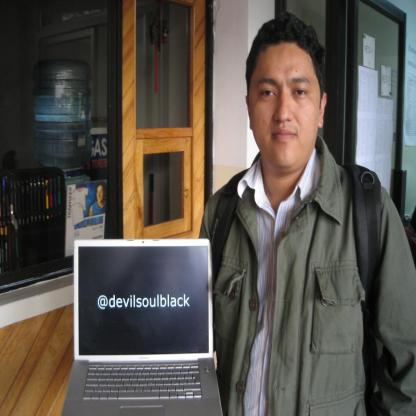board: (62, 239, 225, 415)
